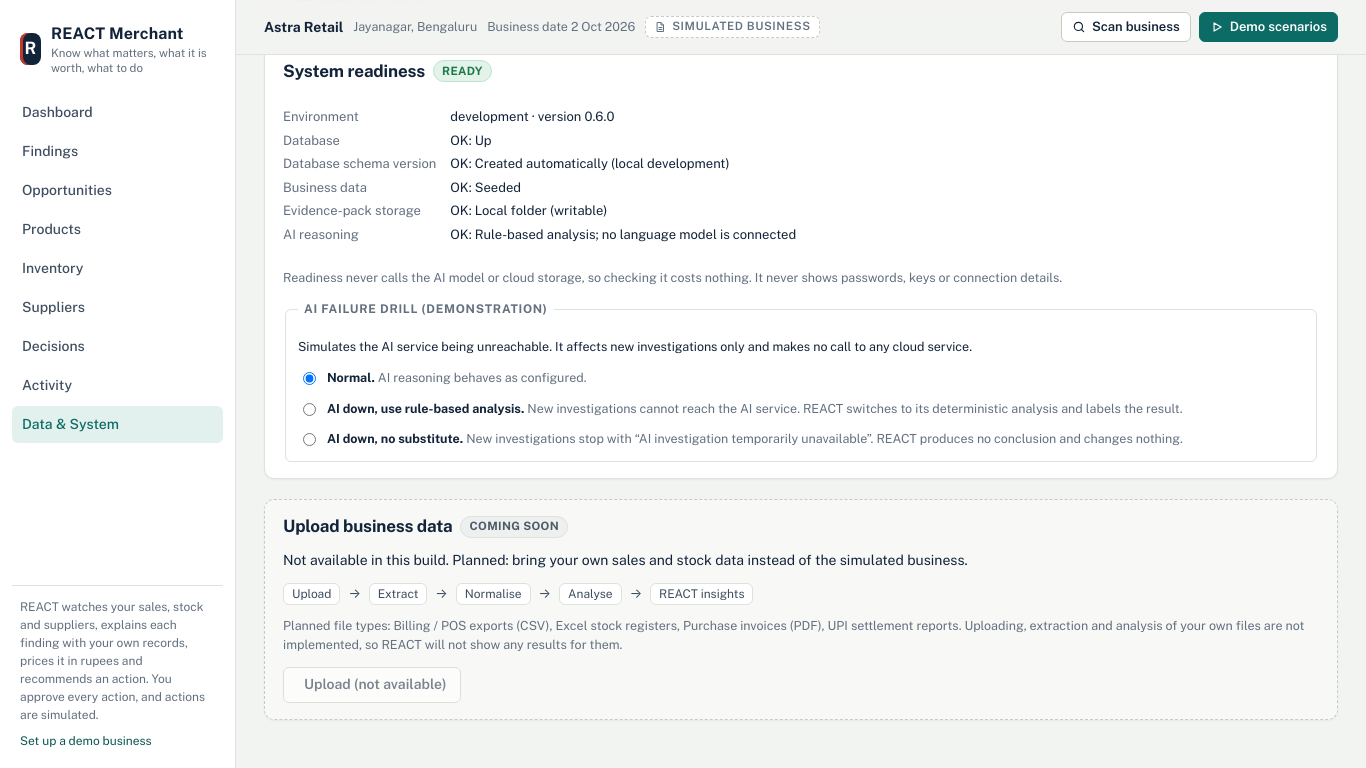
it: Data & System: readiness and AI failure drill › switches the AI failure drill through the backend
(page scrolled)
Expected: the radio button labelled "Normal. AI reasoning behaves as configured." is checked, x1=303 y1=372 x2=316 y2=385
Click the radio button labelled "AI down, no substitute". click: {"x": 310, "y": 440}
box: x1=303 y1=433 x2=316 y2=446
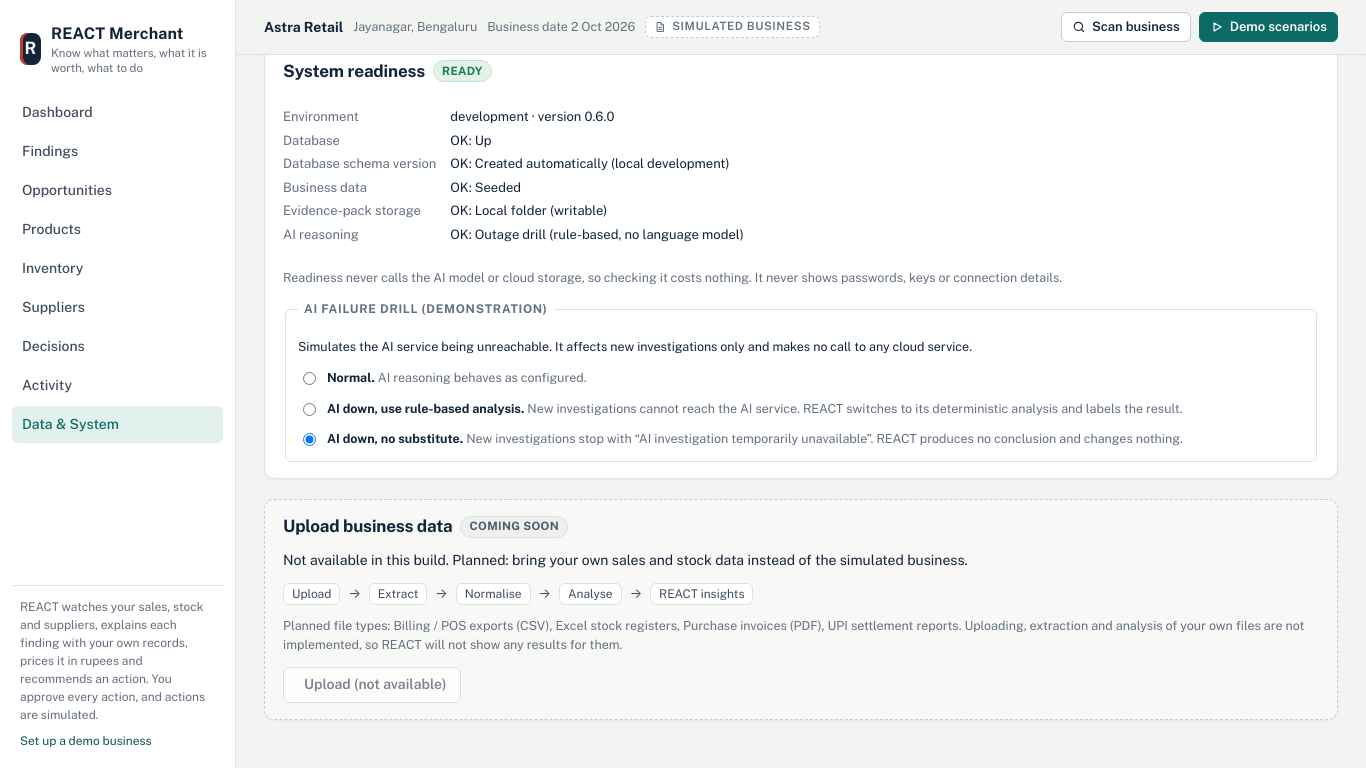
Result: the radio button labelled "AI down, no substitute" is checked at x1=303 y1=433 x2=316 y2=446
Result: the text "OK: Outage drill (rule-based, no language model)" is shown at x1=450 y1=227 x2=744 y2=242
